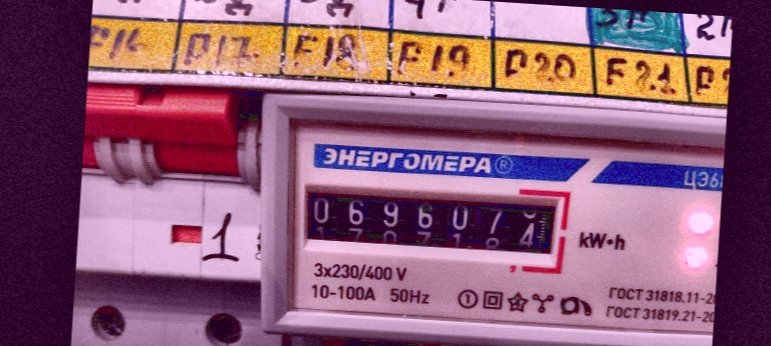0: (449, 202, 470, 233), (310, 196, 330, 225)
4: (517, 221, 535, 250)
6: (414, 201, 435, 231), (345, 197, 366, 226)
7: (485, 206, 504, 237)
9: (380, 200, 399, 229)
screen: (286, 167, 576, 274)
